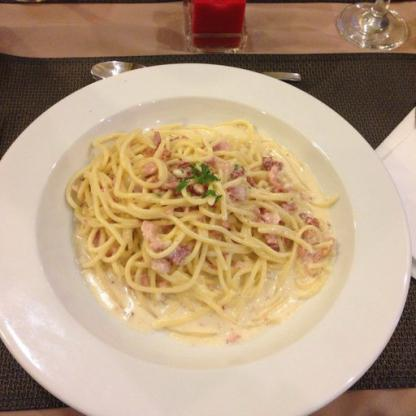Noodles: (66, 117, 343, 341)
